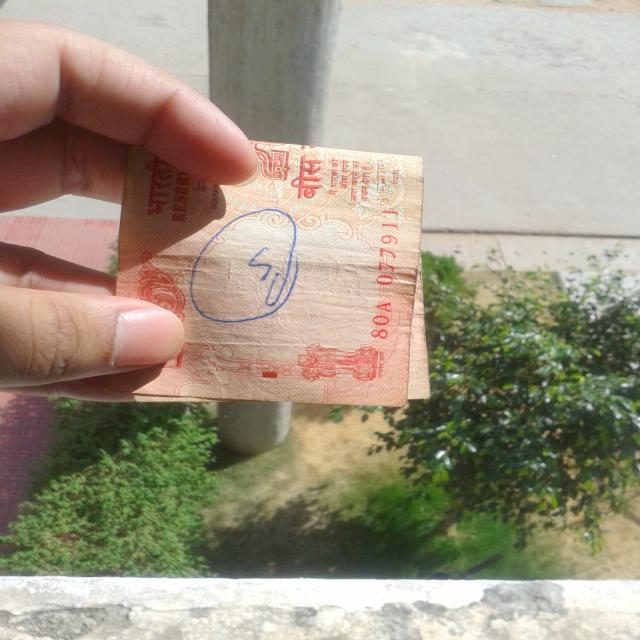20rs: (115, 114, 427, 399)
